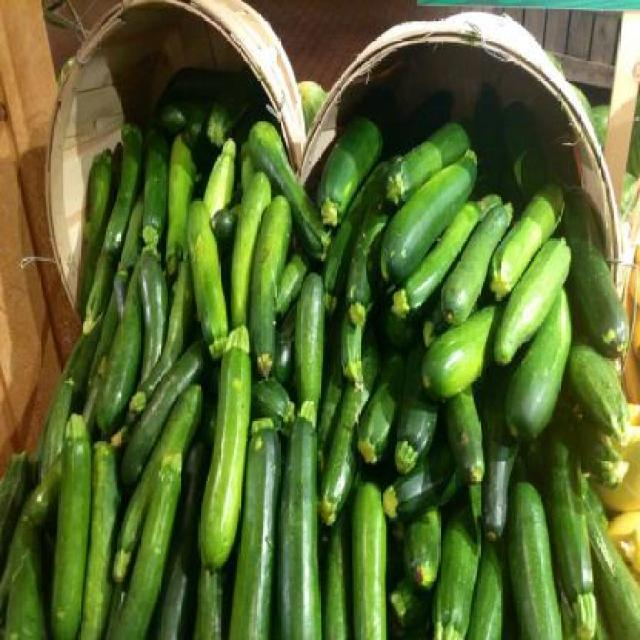Zucchini: (0, 38, 638, 638), (192, 320, 248, 572)
